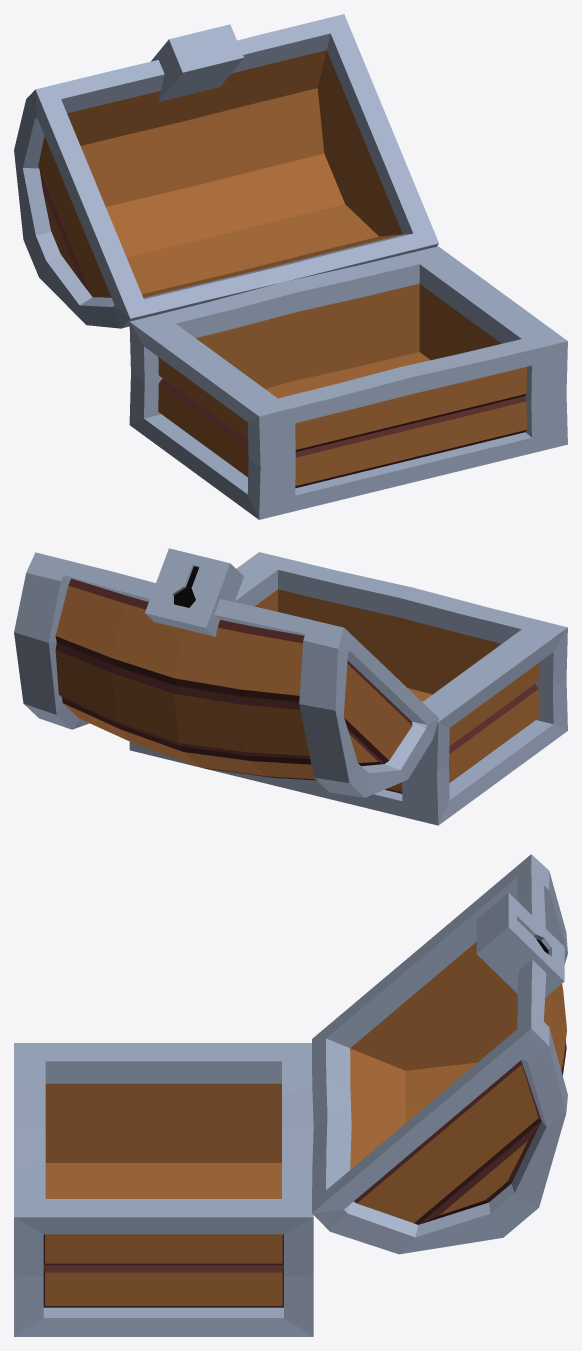
The model's file is chest.fbx.
The picture shows the model from 3 angles, top to bottom: view 1: azimuth 30°, elevation 25°; view 2: azimuth 150°, elevation 25°; view 3: azimuth 270°, elevation 25°; orthographic projection. The views are drawn at different scales.
Visible parts, largest first — view 1: chest bottom; view 2: chest bottom; view 3: chest bottom.
Part boxes in pixels (left/top/right/bottom): chest bottom: left=14, top=14, right=567, bottom=519; chest bottom: left=14, top=548, right=567, bottom=825; chest bottom: left=14, top=854, right=567, bottom=1336.
Size of the model in its own units: 135 by 117 by 172.
